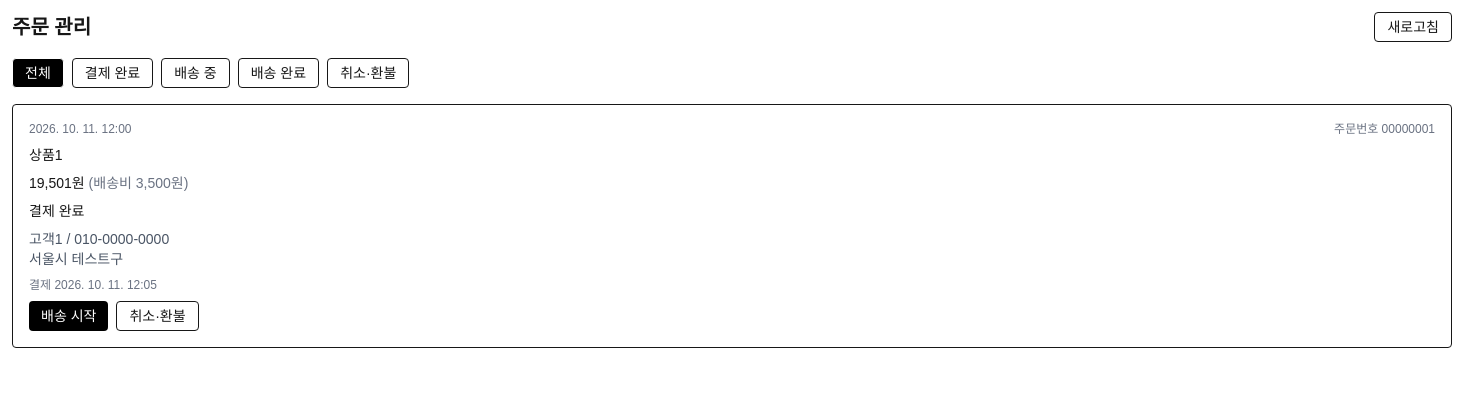
it: 상태 탭 › 성공: 취소·환불 탭에서만 배송 전 취소(CANCELLED)와 배송 후 환불(REFUNDED)을 고를 수 있다
The width and height of the screenshot is (1464, 411).
Expected: the text "상품1" is shown, [29,147,62,163]
Expected: the button "배송 후 환불" is not shown
Click the 1st button "취소·환불" at (368, 73), box [327,58,409,88]
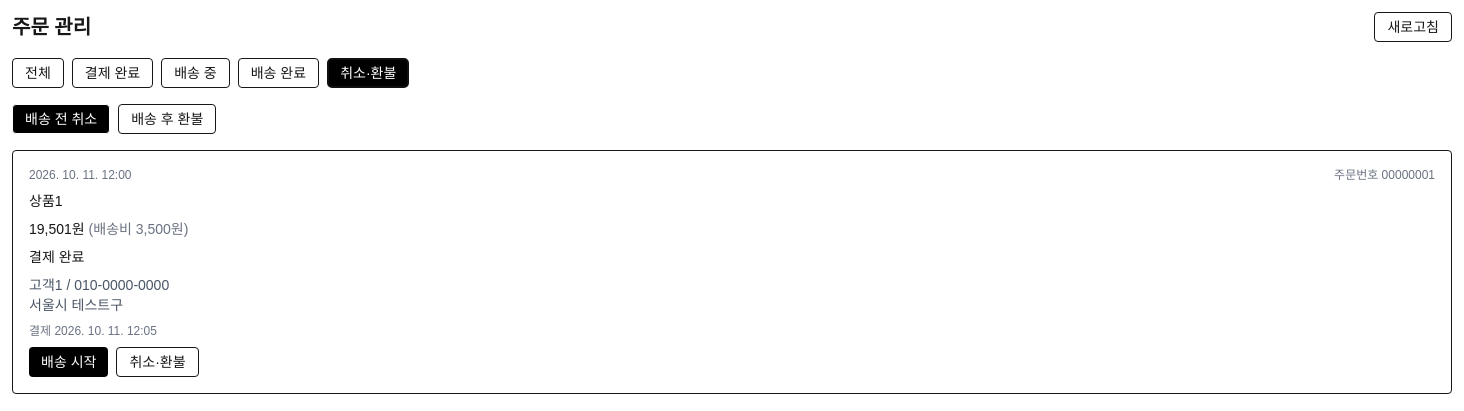
Click the button "배송 후 환불" at (167, 119), box [118,104,216,134]
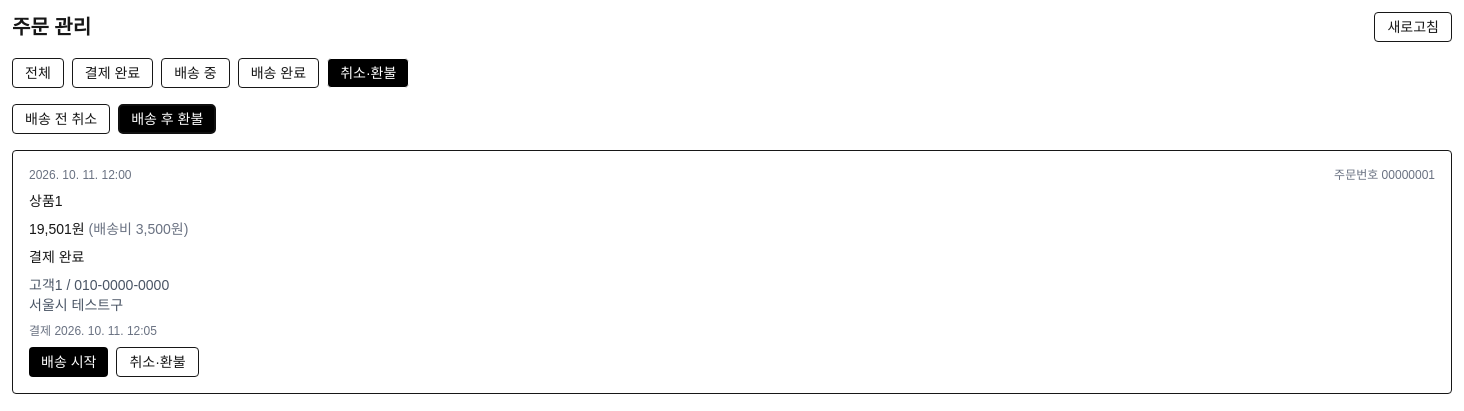
Expected: the 1st button "취소·환불" is pressed, [327,58,409,88]
Click the button "전체" at (38, 73), box [12,58,64,88]
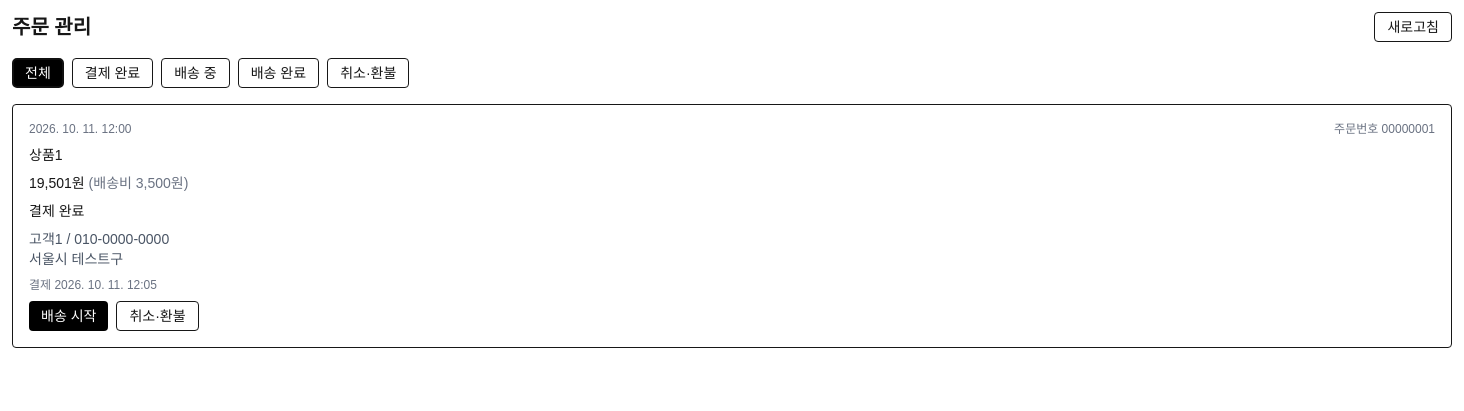
Expected: the button "배송 후 환불" is gone
